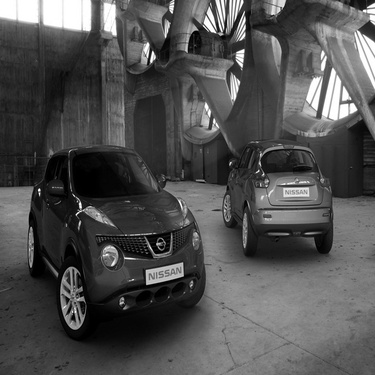car: (23, 135, 210, 351), (219, 129, 343, 261)
